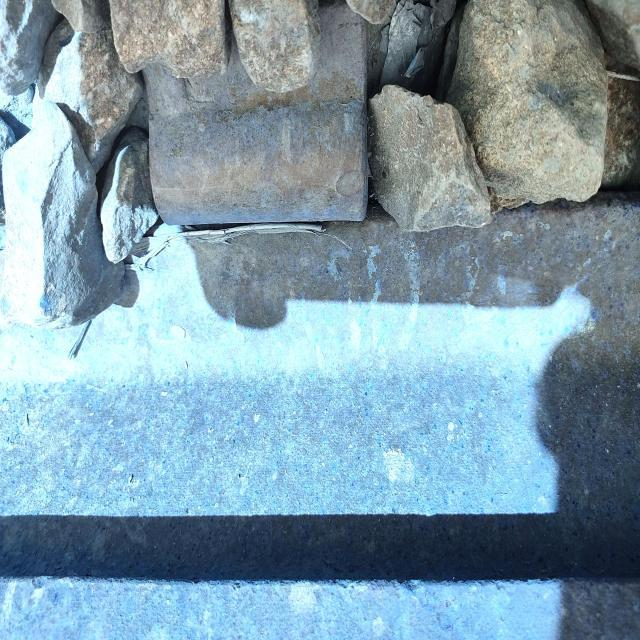Missing Fastener: (123, 34, 418, 272)
